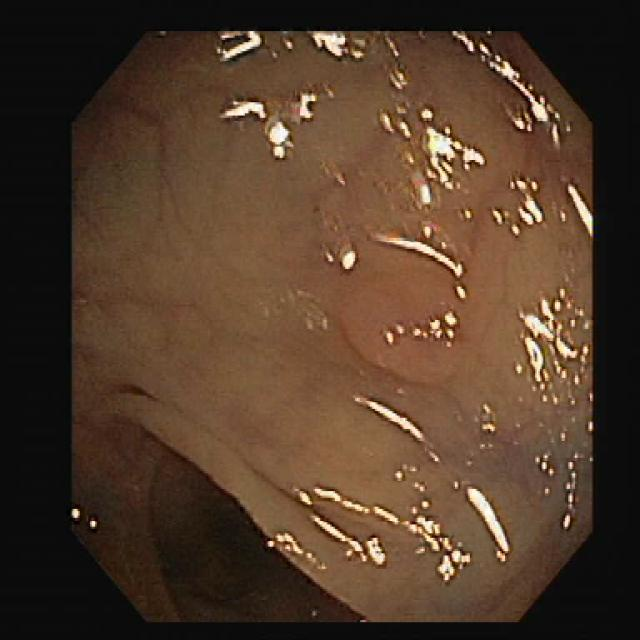tumor: (342, 247, 490, 380)
